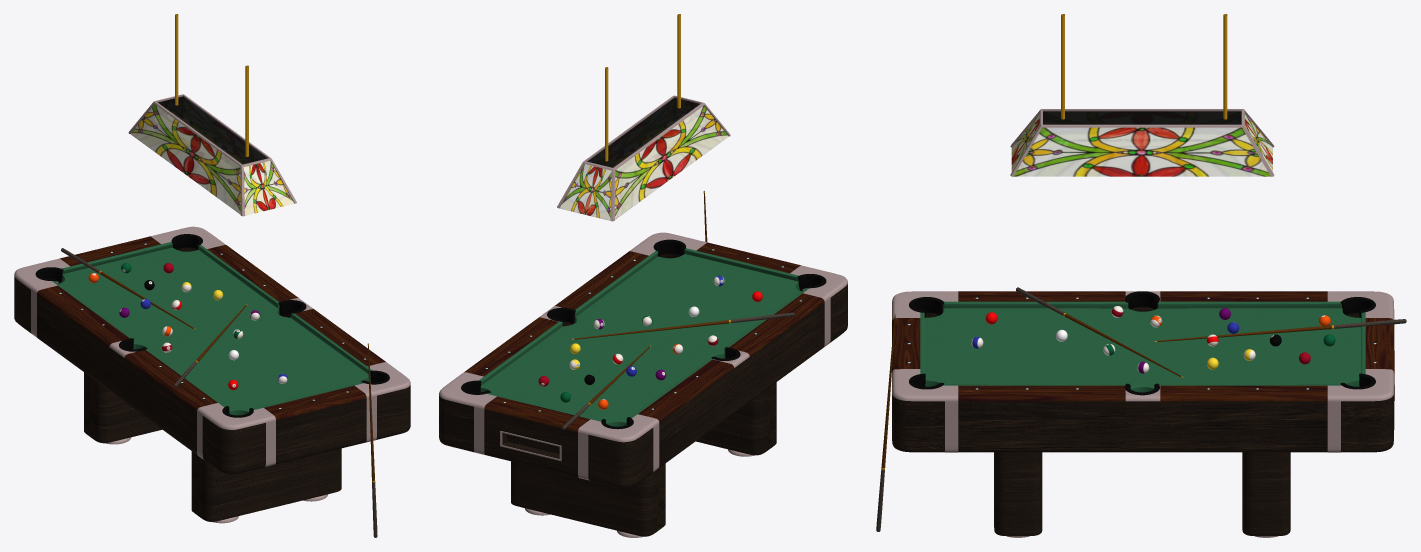
The model's file is pool_table.glb.
3 views of the same model, side by side, from view 1: azimuth 30°, elevation 25°; view 2: azimuth 150°, elevation 25°; view 3: azimuth 270°, elevation 25° (orthographic). The views are drawn at different scales.
Visible parts, largest first — view 1: green, polySurface98, pCube178 (×2), polySurface68, polySurface97, polySurface78, polySurface69, polySurface87, polySurface81, polySurface84, polySurface95, polySurface93 (+1 smaller); view 2: green, polySurface98, pCube178 (×2), polySurface68, polySurface97, polySurface81, polySurface84, polySurface69, polySurface78, polySurface94, polySurface87, polySurface73 (+1 smaller); view 3: green, polySurface98, polySurface68, polySurface97, pCube178 (×2), polySurface69, polySurface84, polySurface87, polySurface92, polySurface91, polySurface81, polySurface78.
Boxes of the visible parts, left/top/right/bottom form: green: left=59, top=247, right=370, bottom=415; polySurface98: left=14, top=244, right=410, bottom=474; pCube178 (×2): left=84, top=372, right=341, bottom=521; polySurface68: left=130, top=96, right=294, bottom=215; polySurface97: left=37, top=236, right=385, bottom=419; polySurface78: left=197, top=403, right=275, bottom=466; polySurface69: left=128, top=94, right=296, bottom=216; polySurface87: left=355, top=362, right=410, bottom=442; polySurface81: left=14, top=258, right=70, bottom=337; polySurface84: left=151, top=226, right=225, bottom=248; polySurface95: left=62, top=242, right=172, bottom=273; polySurface93: left=198, top=245, right=279, bottom=308; green: left=480, top=254, right=801, bottom=426; polySurface98: left=439, top=253, right=847, bottom=487; pCube178 (×2): left=511, top=382, right=776, bottom=536; polySurface68: left=559, top=97, right=728, bottom=220; polySurface97: left=464, top=242, right=824, bottom=431; polySurface81: left=578, top=414, right=659, bottom=480; polySurface84: left=439, top=372, right=496, bottom=454; polySurface69: left=557, top=95, right=730, bottom=221; polySurface78: left=790, top=265, right=847, bottom=346; polySurface94: left=684, top=248, right=798, bottom=281; polySurface87: left=629, top=232, right=707, bottom=255; polySurface73: left=574, top=251, right=658, bottom=316; green: left=924, top=308, right=1361, bottom=392; polySurface98: left=892, top=306, right=1394, bottom=452; polySurface68: left=1011, top=111, right=1272, bottom=176; polySurface97: left=892, top=291, right=1394, bottom=401; pCube178 (×2): left=994, top=452, right=1290, bottom=536; polySurface69: left=1010, top=109, right=1274, bottom=176; polySurface84: left=1327, top=369, right=1394, bottom=452; polySurface87: left=892, top=369, right=958, bottom=452; polySurface92: left=1157, top=301, right=1342, bottom=308; polySurface91: left=942, top=301, right=1128, bottom=308; polySurface81: left=1327, top=291, right=1394, bottom=319; polySurface78: left=892, top=291, right=958, bottom=320.
Size of what is drawn, in the model's own units: 3.66 by 7.78 by 7.64.
Materials: 28 (21 with a texture image).
